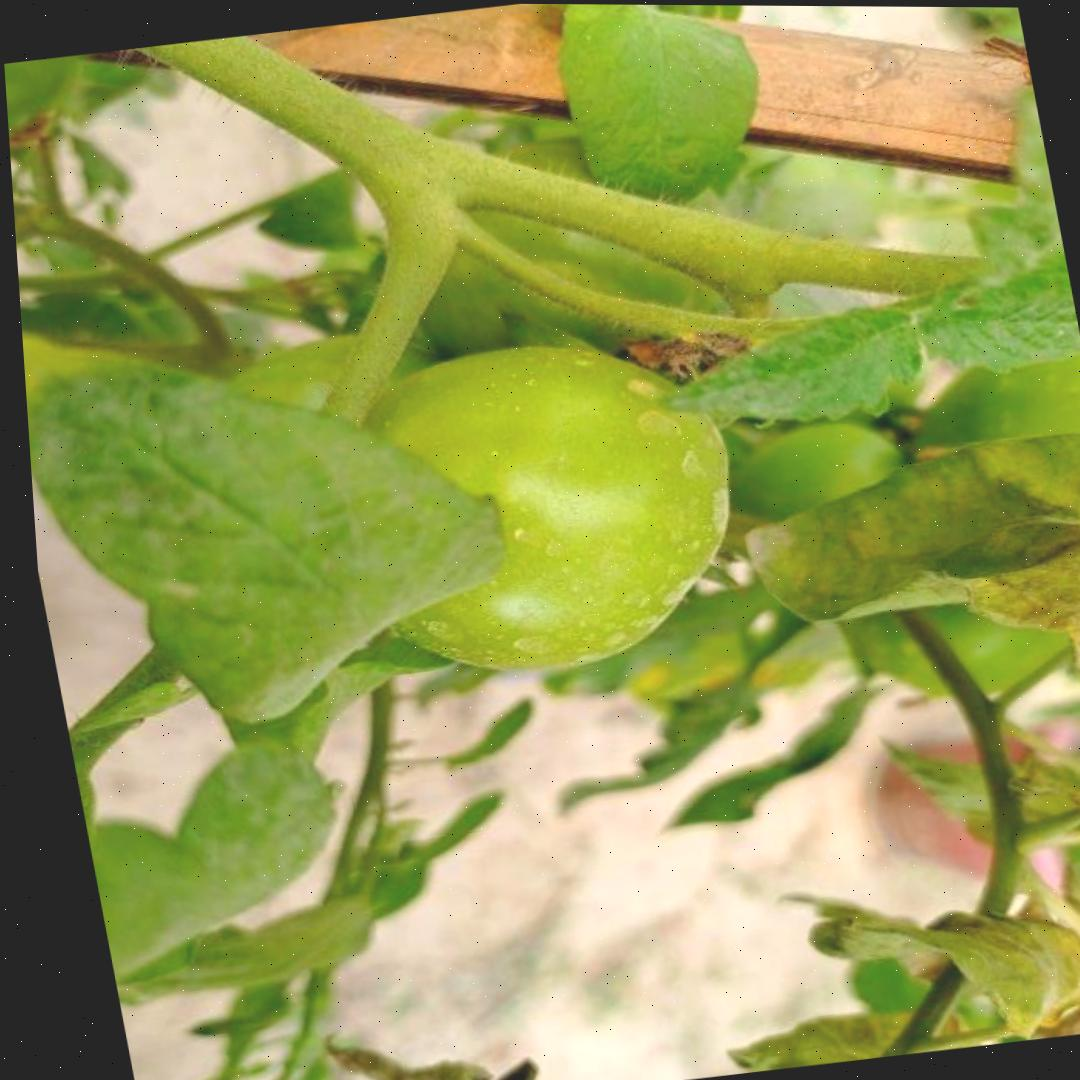mentah: (291, 318, 770, 696)
